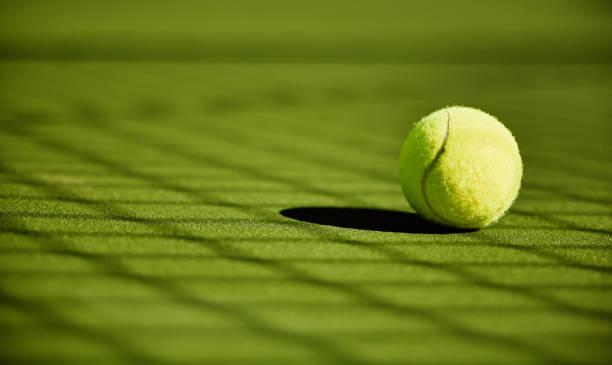ball_tennis: (399, 105, 526, 235)
